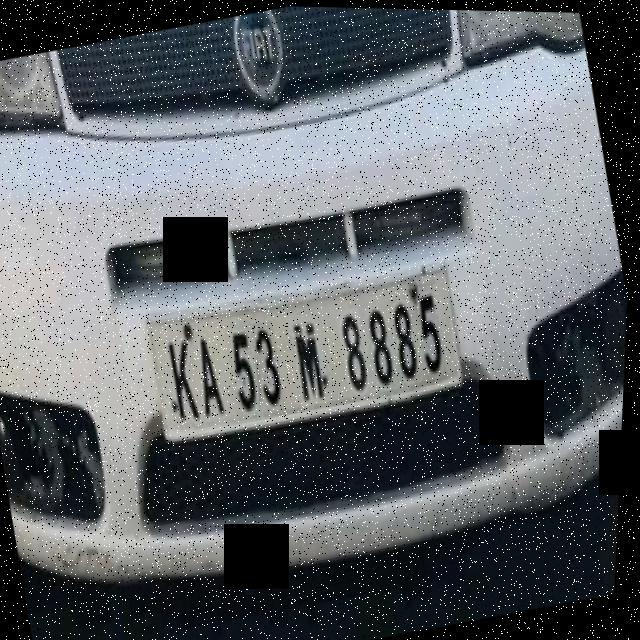3: (248, 318, 294, 416)
5: (223, 318, 270, 419), (410, 280, 455, 382)
8: (360, 296, 409, 400), (387, 292, 434, 394), (335, 305, 379, 399)
A: (188, 324, 237, 425)
K: (165, 330, 210, 431)
M: (287, 309, 339, 411)
